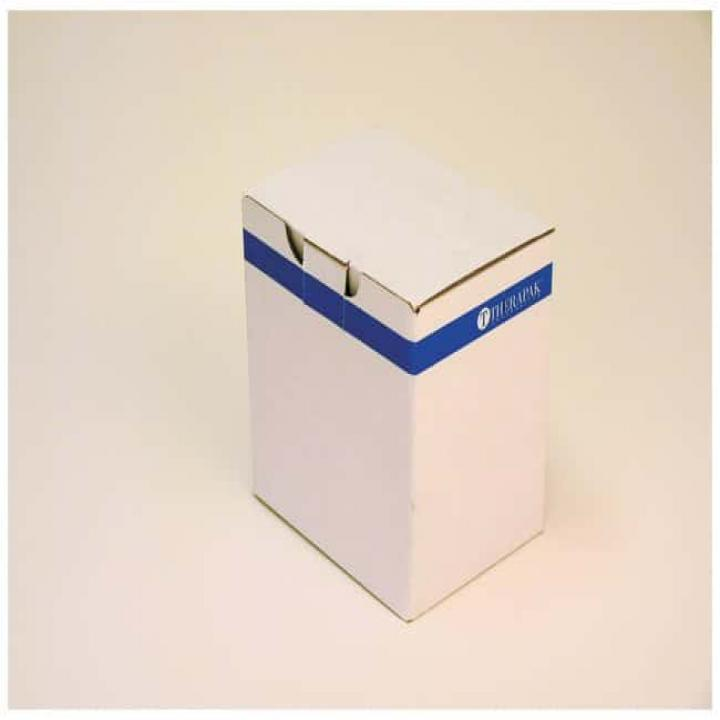box: (244, 121, 556, 626)
